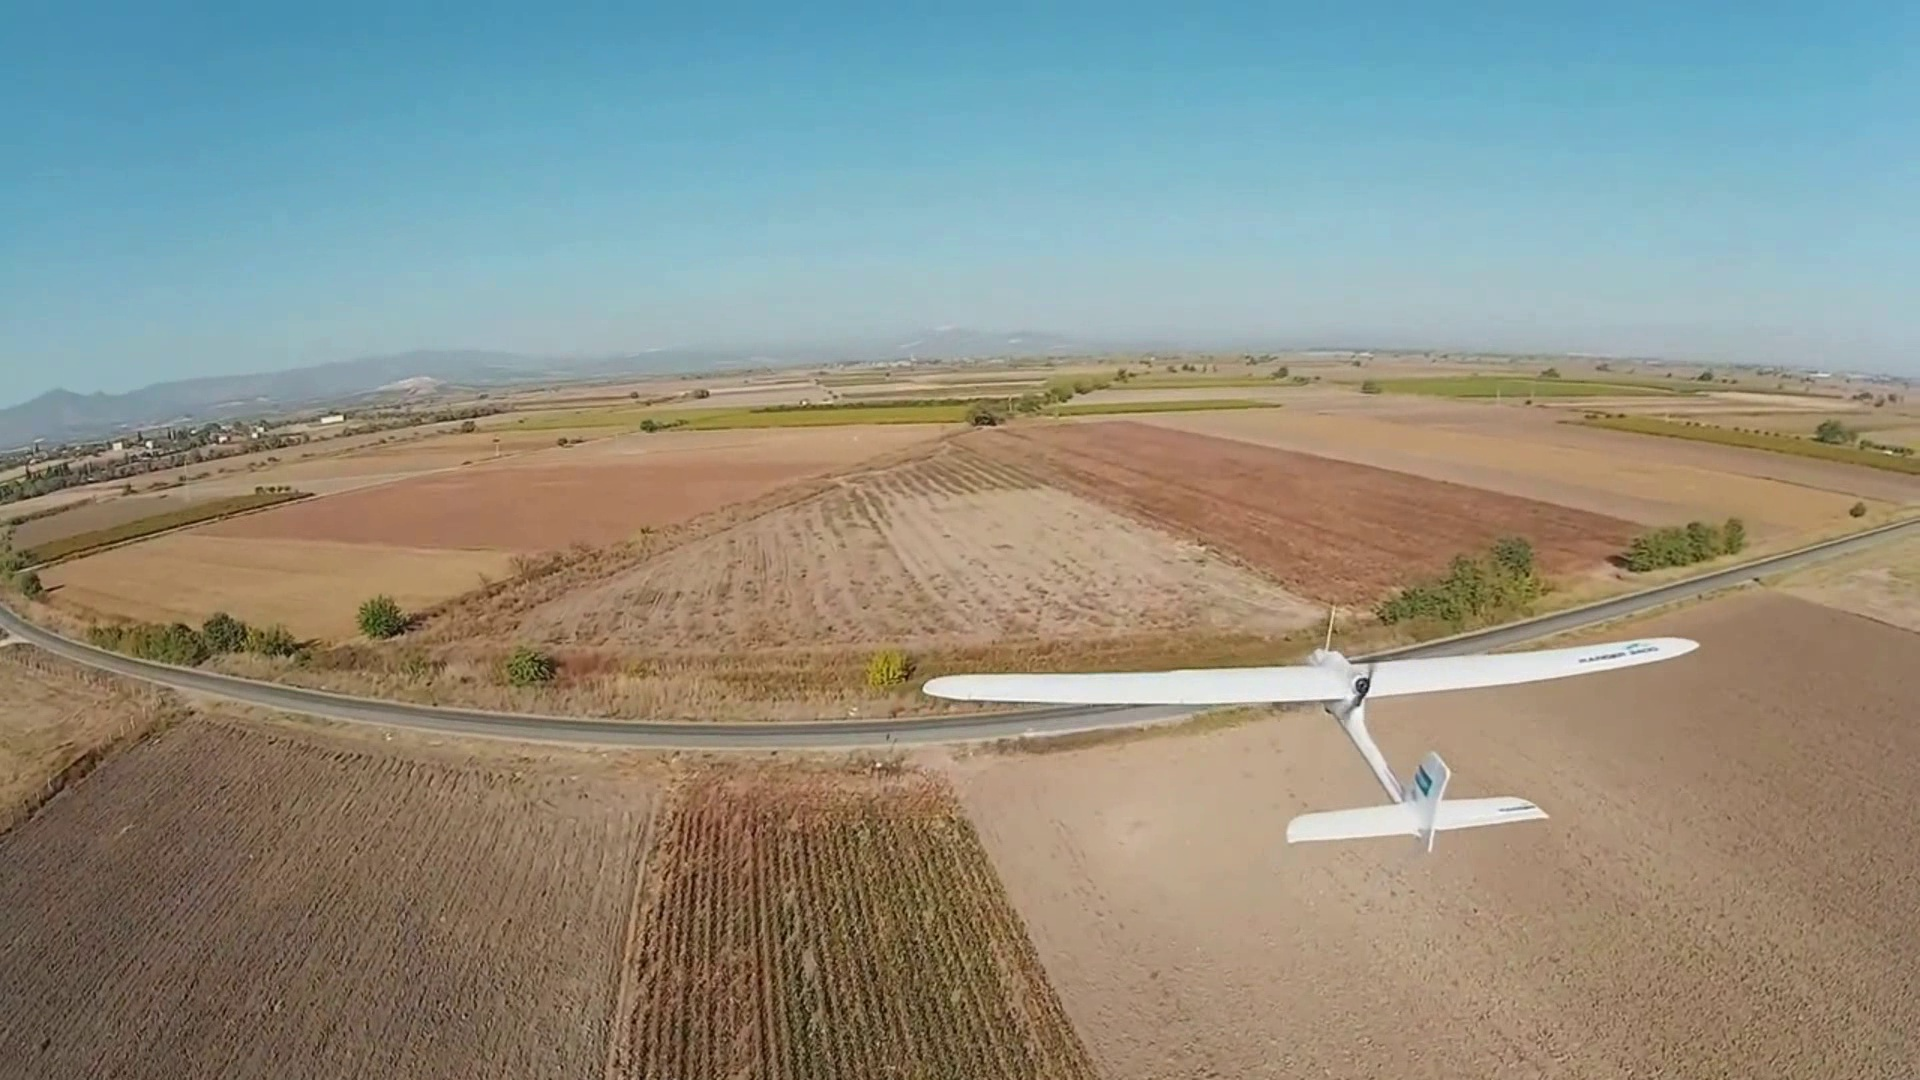airplane: (918, 499, 1909, 846)
